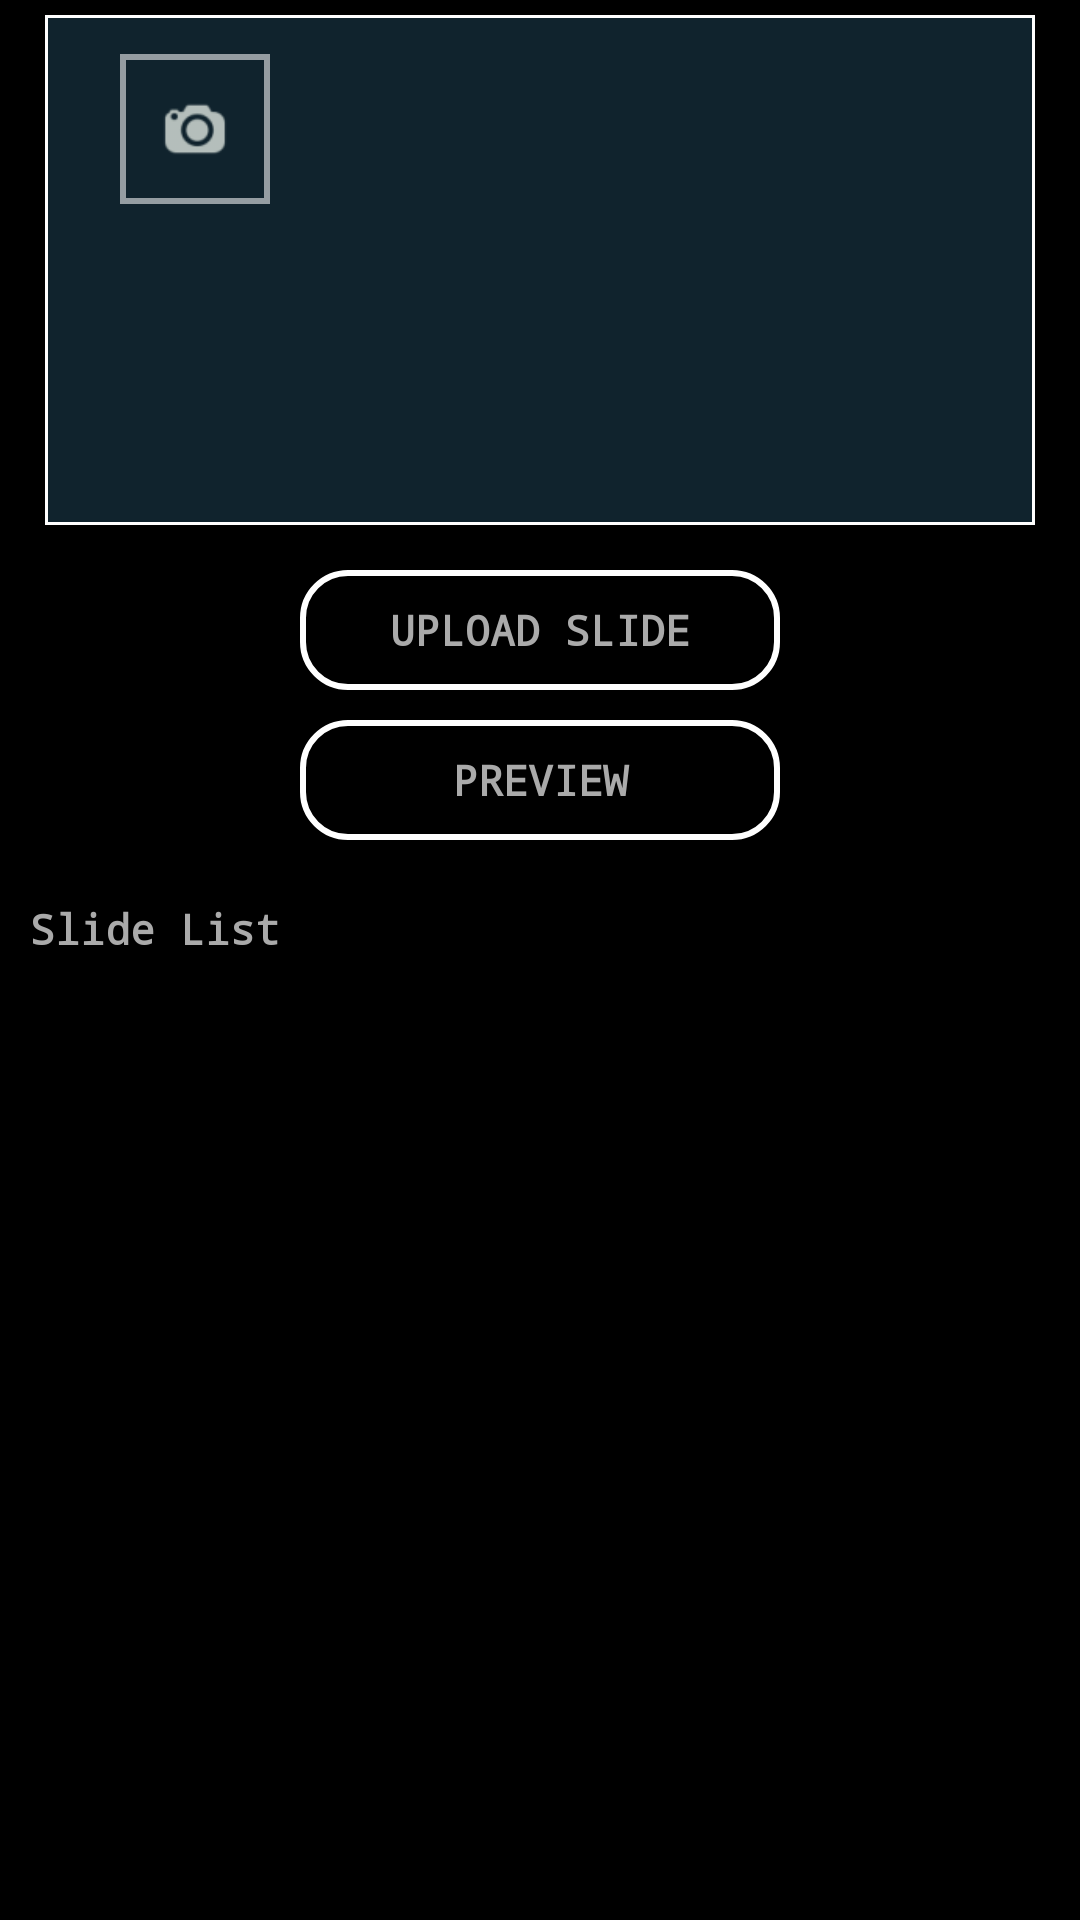

Point at icon controls on the screen. Image size 1080*1920, points as point (x, y).
cam: point (195, 129)
